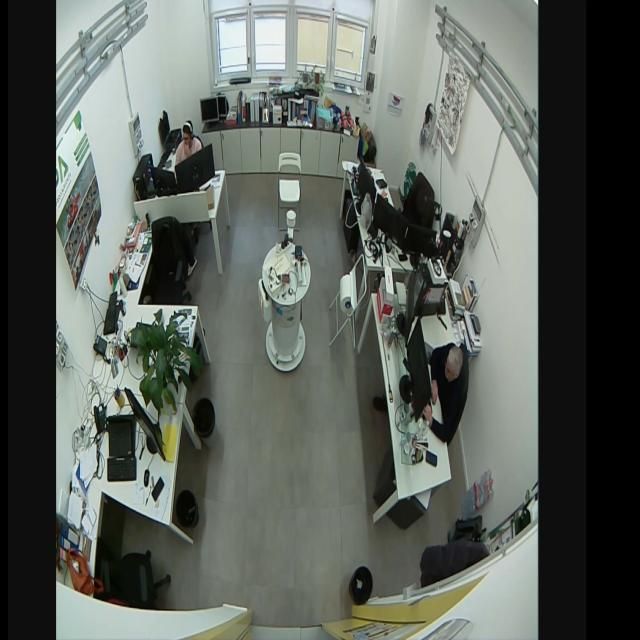Persona: (423, 339, 469, 446), (174, 116, 203, 168)
